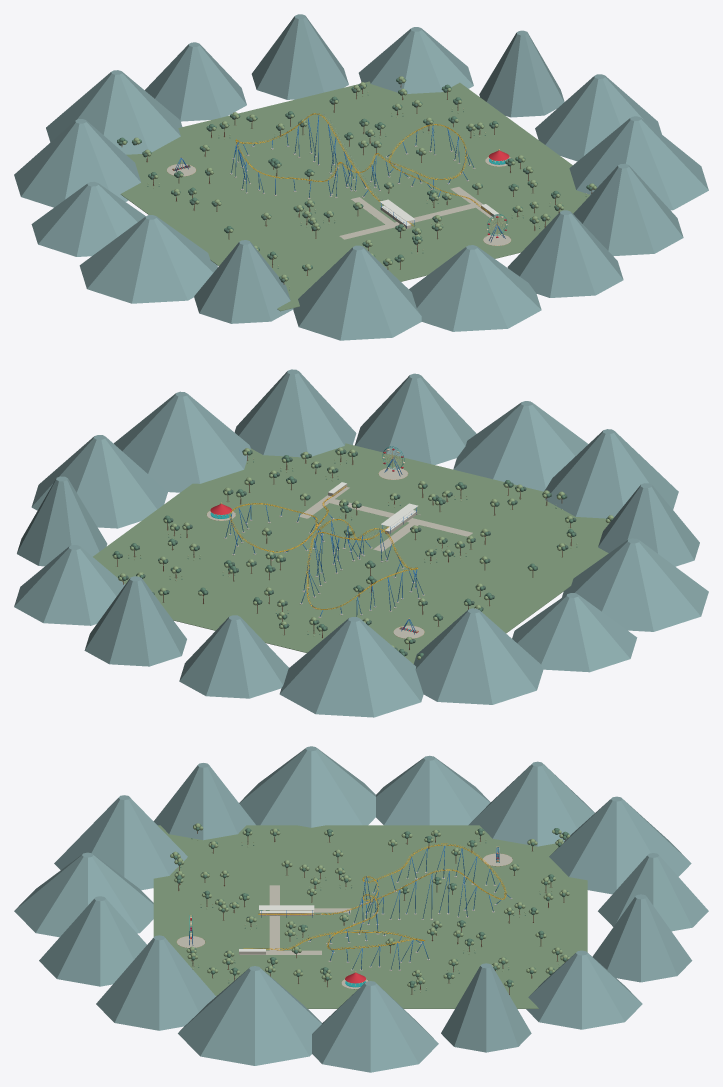
File: coaster-environment.glb
3 views of the same model, one above another, from view 1: azimuth 30°, elevation 25°; view 2: azimuth 150°, elevation 25°; view 3: azimuth 270°, elevation 25° (orthographic). The views are drawn at different scales.
Parts seen in each view (by area): view 1: Environment Distant mountain blue, Environment Meadow green, Environment Sunlit leaves, Environment Warm concrete, Environment Tree canopy, Environment Cobalt blue support steel, Environment Sun yellow enamel rails, Environment Deep moss leaves, Environment Ridged brown bark; view 2: Environment Distant mountain blue, Environment Meadow green, Environment Sunlit leaves, Environment Warm concrete, Environment Tree canopy, Environment Cobalt blue support steel, Environment Sun yellow enamel rails, Environment Deep moss leaves, Environment Ridged brown bark; view 3: Environment Distant mountain blue, Environment Meadow green, Environment Sunlit leaves, Environment Warm concrete, Environment Tree canopy, Environment Cobalt blue support steel, Environment Sun yellow enamel rails, Environment Ridged brown bark, Environment Ivory station canopy.
Boxes of the visible parts, x1,y1,x2,y2 form: Environment Distant mountain blue: [14, 14, 708, 340]; Environment Meadow green: [120, 81, 590, 311]; Environment Sunlit leaves: [122, 76, 596, 287]; Environment Warm concrete: [167, 145, 510, 245]; Environment Tree canopy: [117, 78, 596, 290]; Environment Cobalt blue support steel: [175, 115, 505, 242]; Environment Sun yellow enamel rails: [235, 113, 490, 226]; Environment Deep moss leaves: [118, 80, 592, 282]; Environment Ridged brown bark: [121, 84, 592, 284]; Environment Distant mountain blue: [14, 369, 708, 717]; Environment Meadow green: [93, 443, 610, 663]; Environment Sunlit leaves: [113, 447, 613, 659]; Environment Warm concrete: [207, 467, 472, 638]; Environment Tree canopy: [112, 449, 612, 657]; Environment Cobalt blue support steel: [225, 457, 423, 634]; Environment Sun yellow enamel rails: [229, 485, 417, 609]; Environment Deep moss leaves: [120, 449, 576, 655]; Environment Ridged brown bark: [117, 454, 571, 650]; Environment Distant mountain blue: [14, 746, 708, 1072]; Environment Meadow green: [153, 825, 587, 1008]; Environment Sunlit leaves: [170, 823, 569, 992]; Environment Warm concrete: [177, 853, 512, 989]; Environment Tree canopy: [173, 824, 569, 990]; Environment Cobalt blue support steel: [189, 845, 511, 969]; Environment Sun yellow enamel rails: [243, 843, 506, 950]; Environment Ridged brown bark: [175, 831, 565, 994]; Environment Ivory station canopy: [239, 905, 314, 951].
Size of the model in its own units: 472 by 49.83 by 464.
